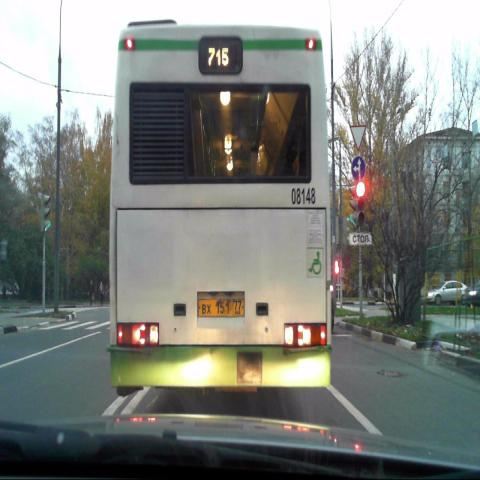4_1_5: (351, 156, 366, 181)
